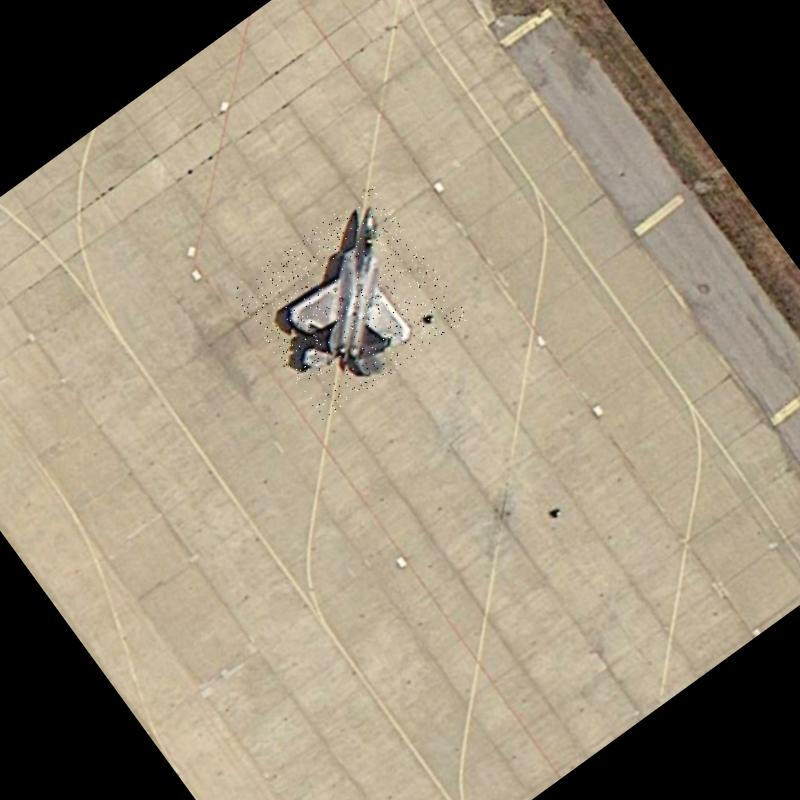A15: (228, 185, 470, 422)
